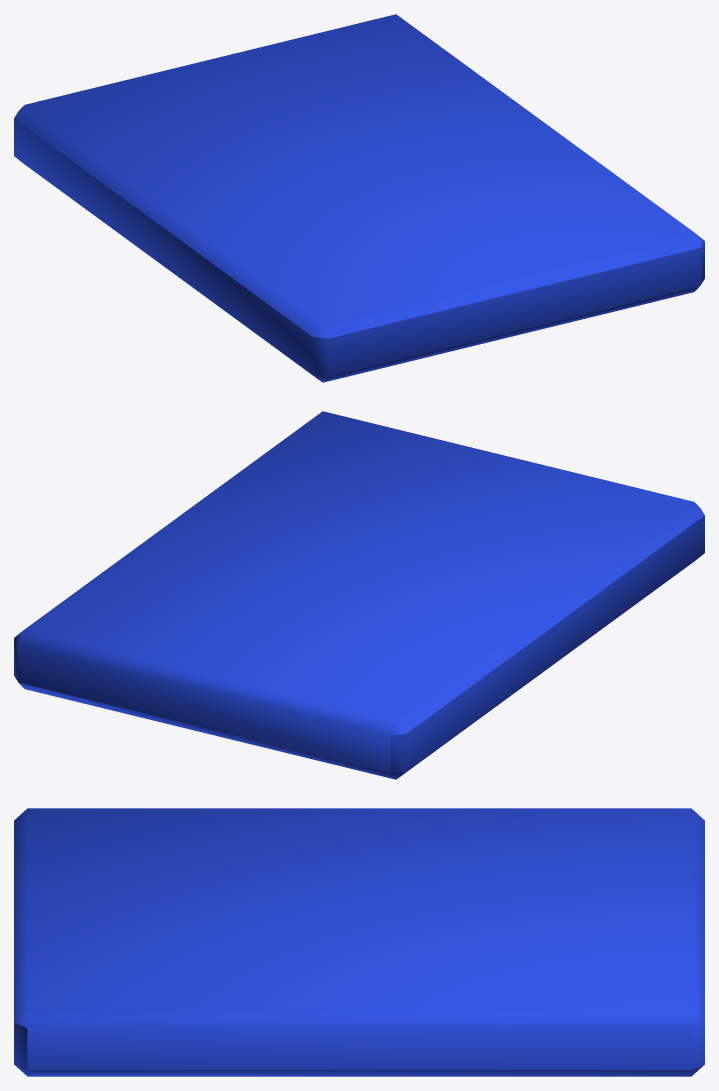
Rendered from Landing Matt.fbx.
The picture shows the model from 3 angles, top to bottom: view 1: azimuth 30°, elevation 25°; view 2: azimuth 150°, elevation 25°; view 3: azimuth 270°, elevation 25°; orthographic projection. The views are drawn at different scales.
Parts seen in each view (by area): view 1: Landing Matt; view 2: Landing Matt; view 3: Landing Matt.
Boxes of the visible parts, <box> form: Landing Matt: <box>14,14,704,382</box>; Landing Matt: <box>14,411,704,779</box>; Landing Matt: <box>14,808,704,1076</box>.
Bounding box in the file's own units: 186 × 26.91 × 255.
